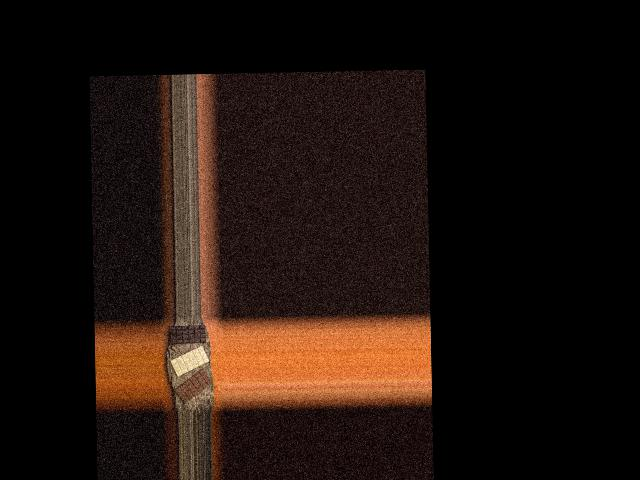chocolate: (168, 324, 206, 343)
